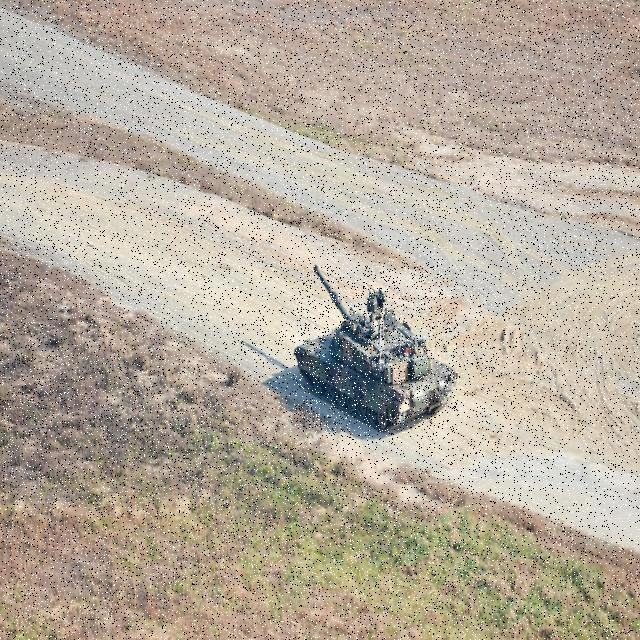MIL_MBT: (294, 266, 458, 432)
